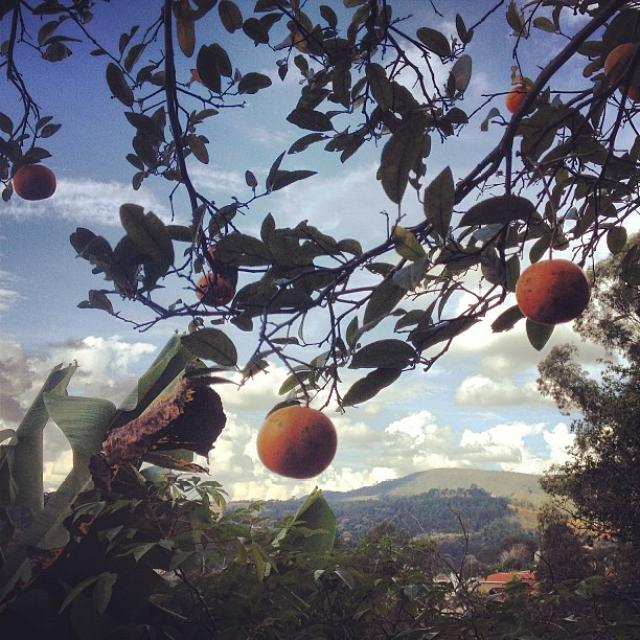orange: (250, 399, 352, 485), (514, 252, 601, 331), (11, 164, 61, 206), (498, 75, 539, 124)
